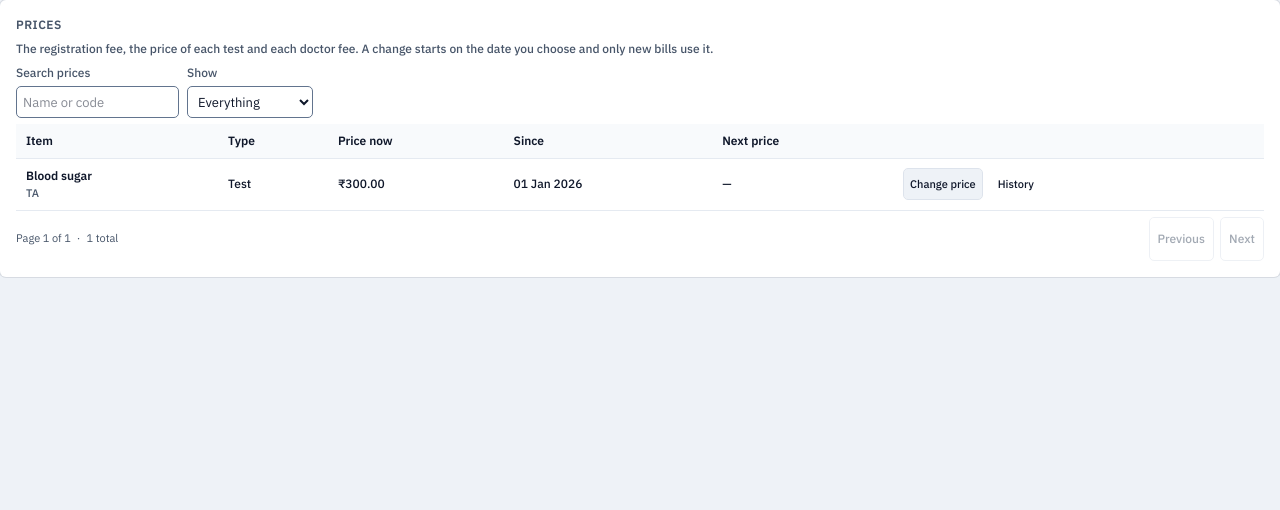
Test: PricesScreen › saves a new price in whole paise with the chosen date, closes the form and reloads the list
The width and height of the screenshot is (1280, 510).
Click the button "Change price" at (943, 184), box [903, 168, 983, 200]
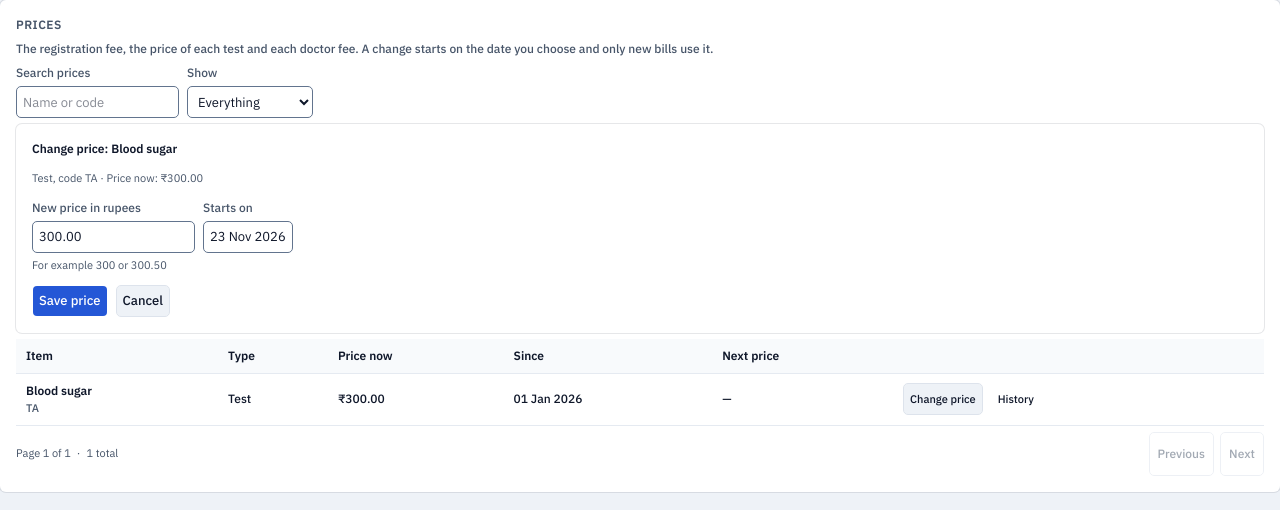
Expected: the field labelled "New price in rupees" holds "300.00"
Replace the text in the field labelled "New price in rupees" with "350.50" at (114, 236), box [32, 220, 195, 252]
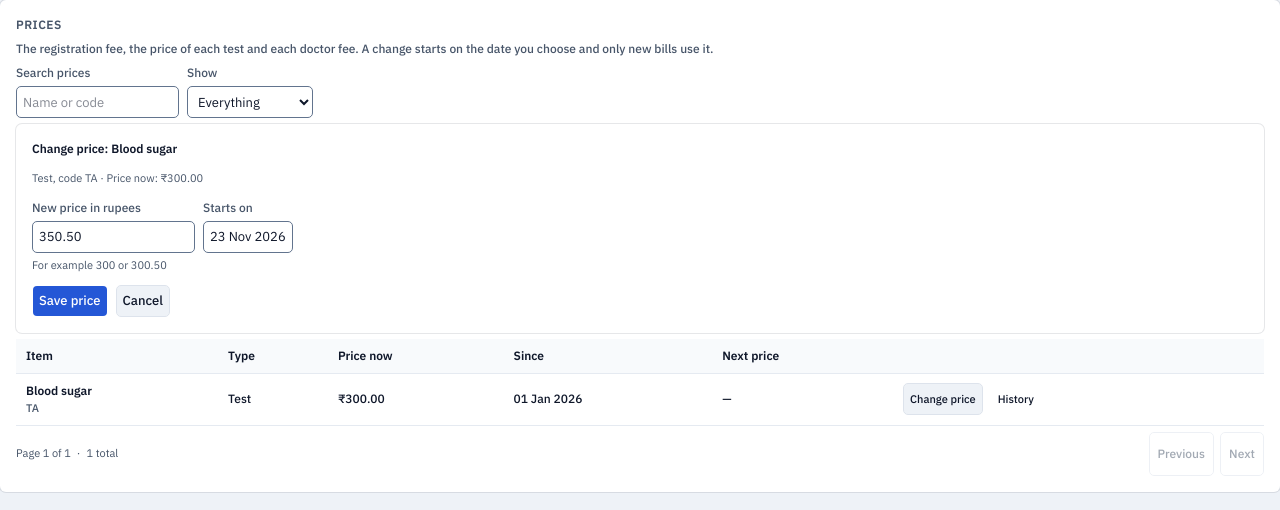
Click the button "Save price" at (70, 301), box [32, 285, 108, 317]
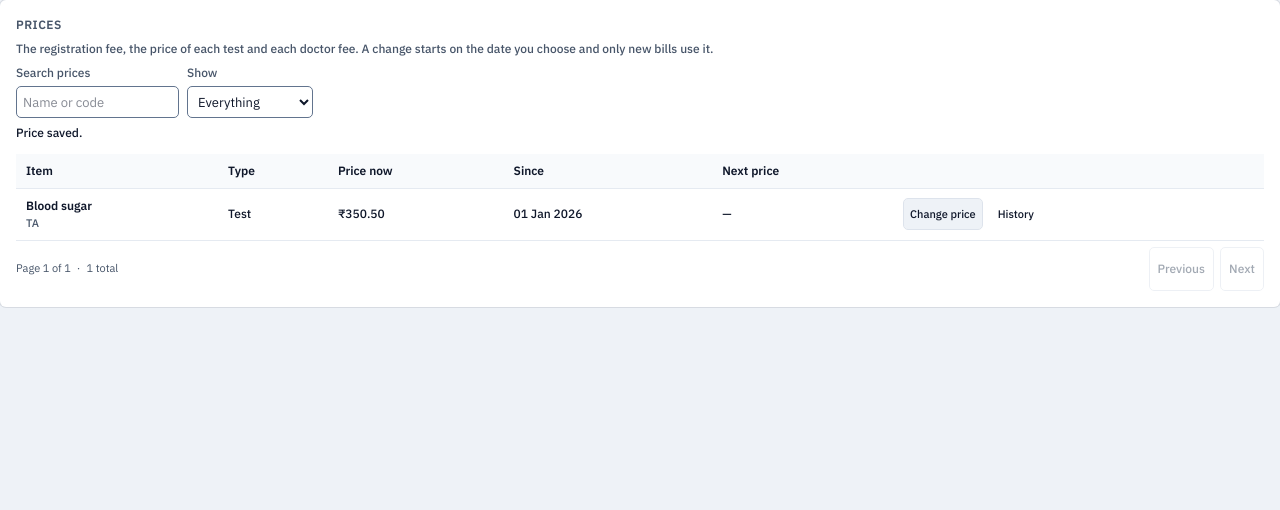
Expected: the text "Price saved." is shown, [16, 125, 82, 140]
Expected: the label labelled "New price in rupees" is gone
